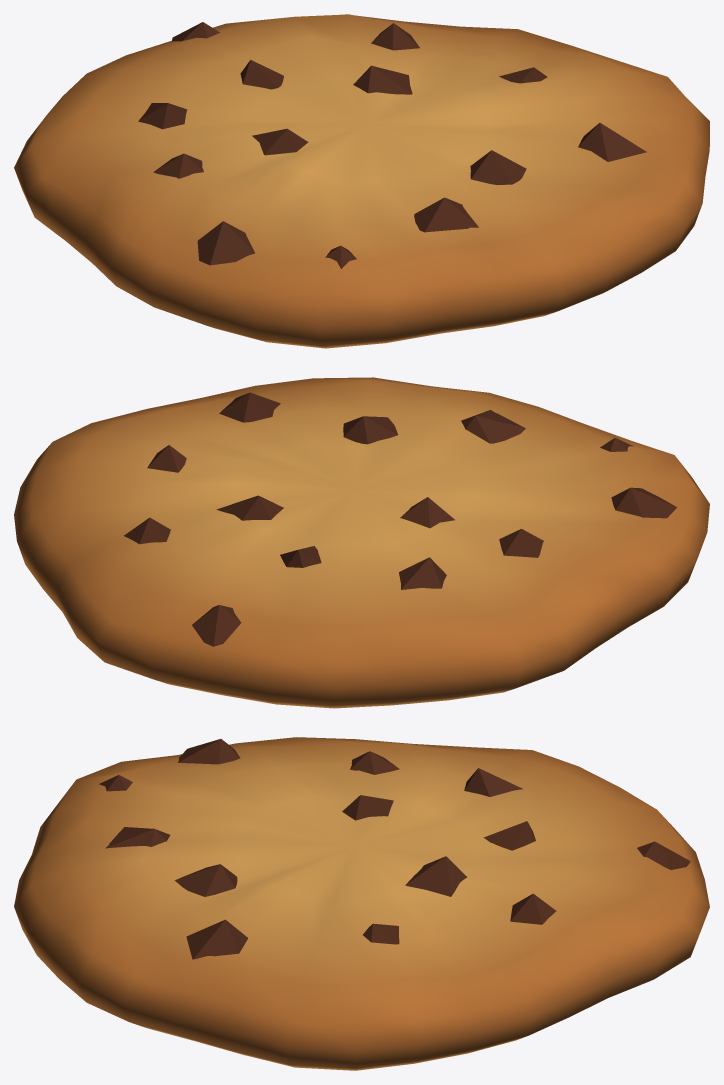
The model's file is cookie.glb.
3 views of the same model, one above another, from view 1: azimuth 30°, elevation 25°; view 2: azimuth 150°, elevation 25°; view 3: azimuth 270°, elevation 25° (orthographic).
Parts seen in each view (by area): view 1: cookie-dough, cookie-chocolate; view 2: cookie-dough, cookie-chocolate; view 3: cookie-dough, cookie-chocolate.
Part boxes in pixels (left/top/right/bottom): cookie-dough: left=14, top=14, right=709, bottom=348; cookie-chocolate: left=138, top=22, right=646, bottom=268; cookie-dough: left=14, top=377, right=709, bottom=708; cookie-chocolate: left=124, top=392, right=676, bottom=646; cookie-dough: left=14, top=737, right=709, bottom=1070; cookie-chocolate: left=99, top=739, right=690, bottom=959.
Size of the model in its own units: 1 by 0.1565 by 0.9934.
